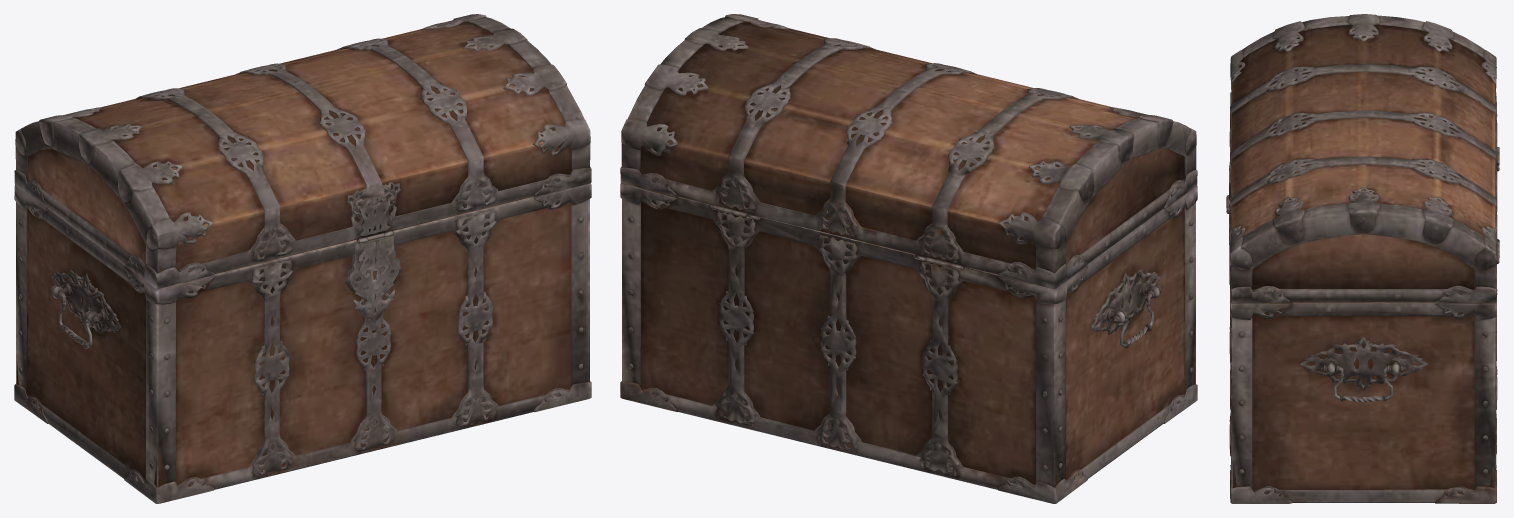
Rendered from treasure_chest.glb.
3 views of the same model, side by side, from view 1: azimuth 30°, elevation 25°; view 2: azimuth 150°, elevation 25°; view 3: azimuth 270°, elevation 25° (orthographic). The views are drawn at different scales.
Visible parts, largest first — view 1: treasure_chest_bottom; view 2: treasure_chest_bottom; view 3: treasure_chest_bottom.
Boxes of the visible parts, bbox=[...] form: treasure_chest_bottom: bbox=[14, 14, 591, 503]; treasure_chest_bottom: bbox=[620, 14, 1197, 503]; treasure_chest_bottom: bbox=[1226, 14, 1499, 503].
Size of the model in its own units: 0.959 by 0.6188 by 0.5223.
Materials: 1 (1 with a texture image).
